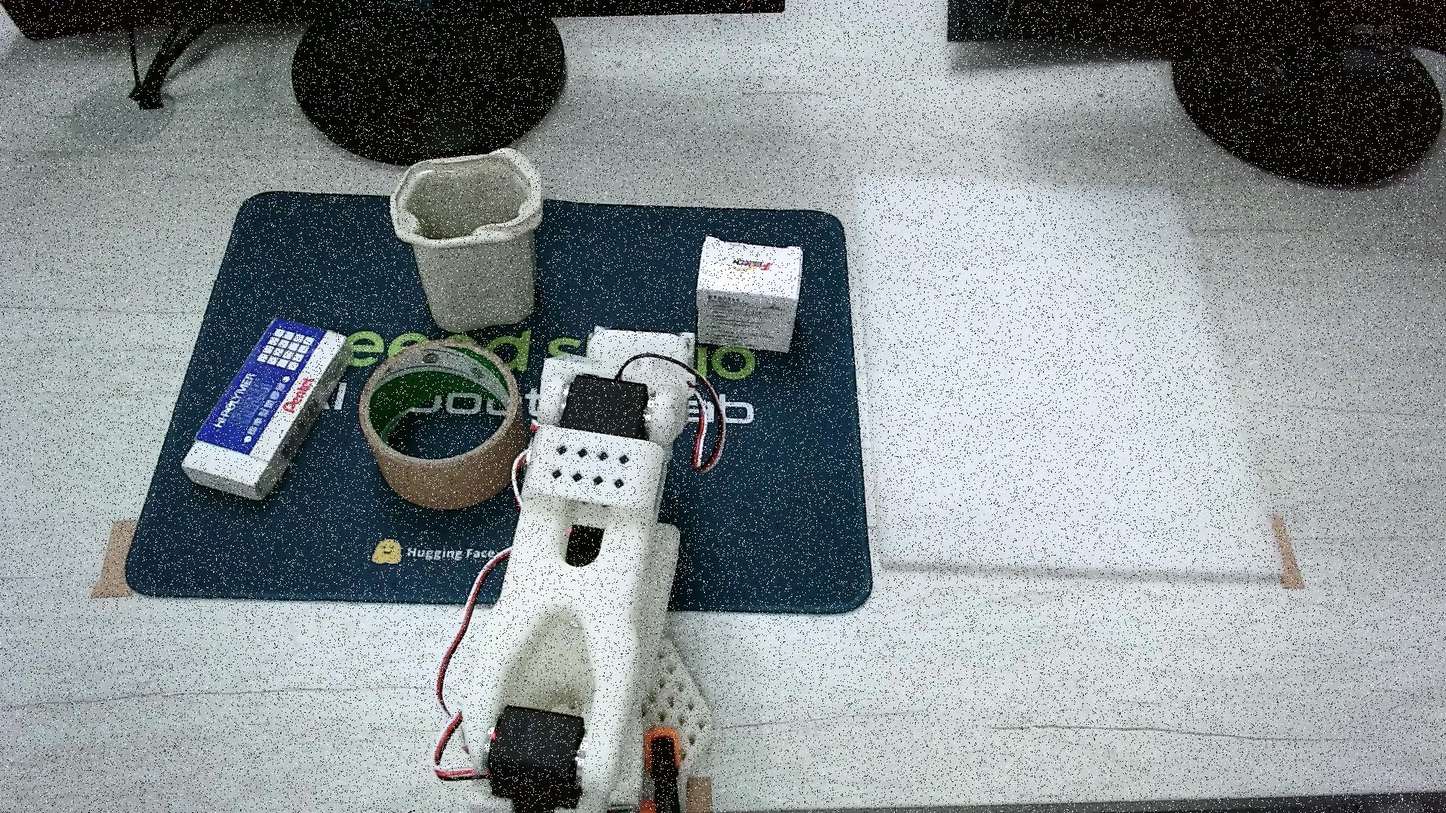eraser: (696, 236, 801, 351)
